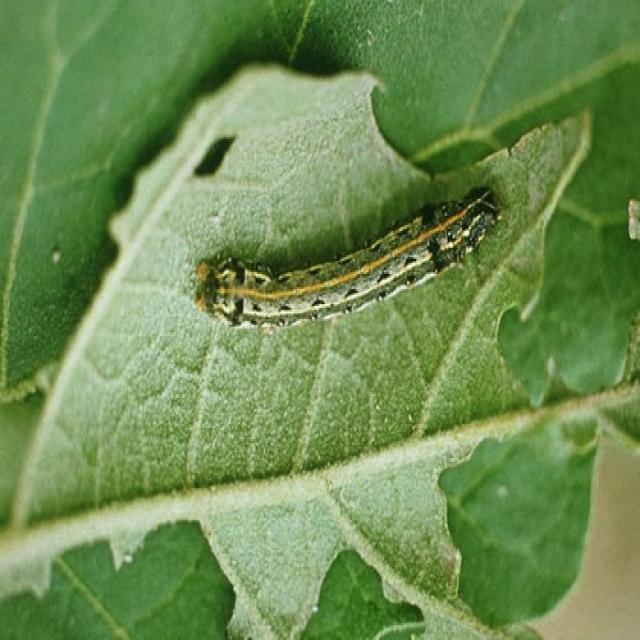armyworm: (193, 184, 502, 330)
